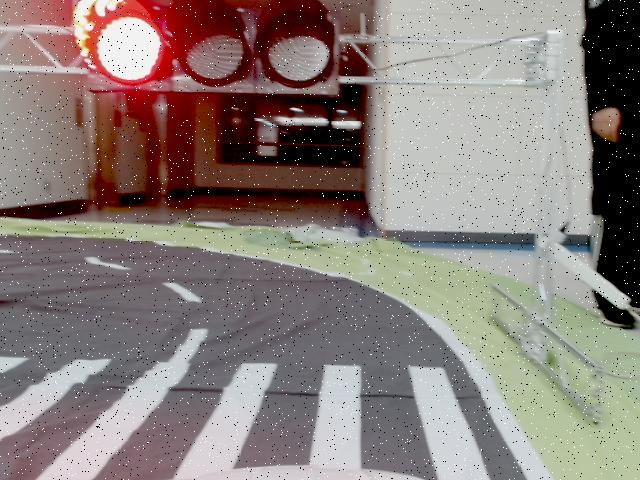crosswalk: (0, 354, 502, 480)
traffic light-red-: (73, 0, 340, 95)
